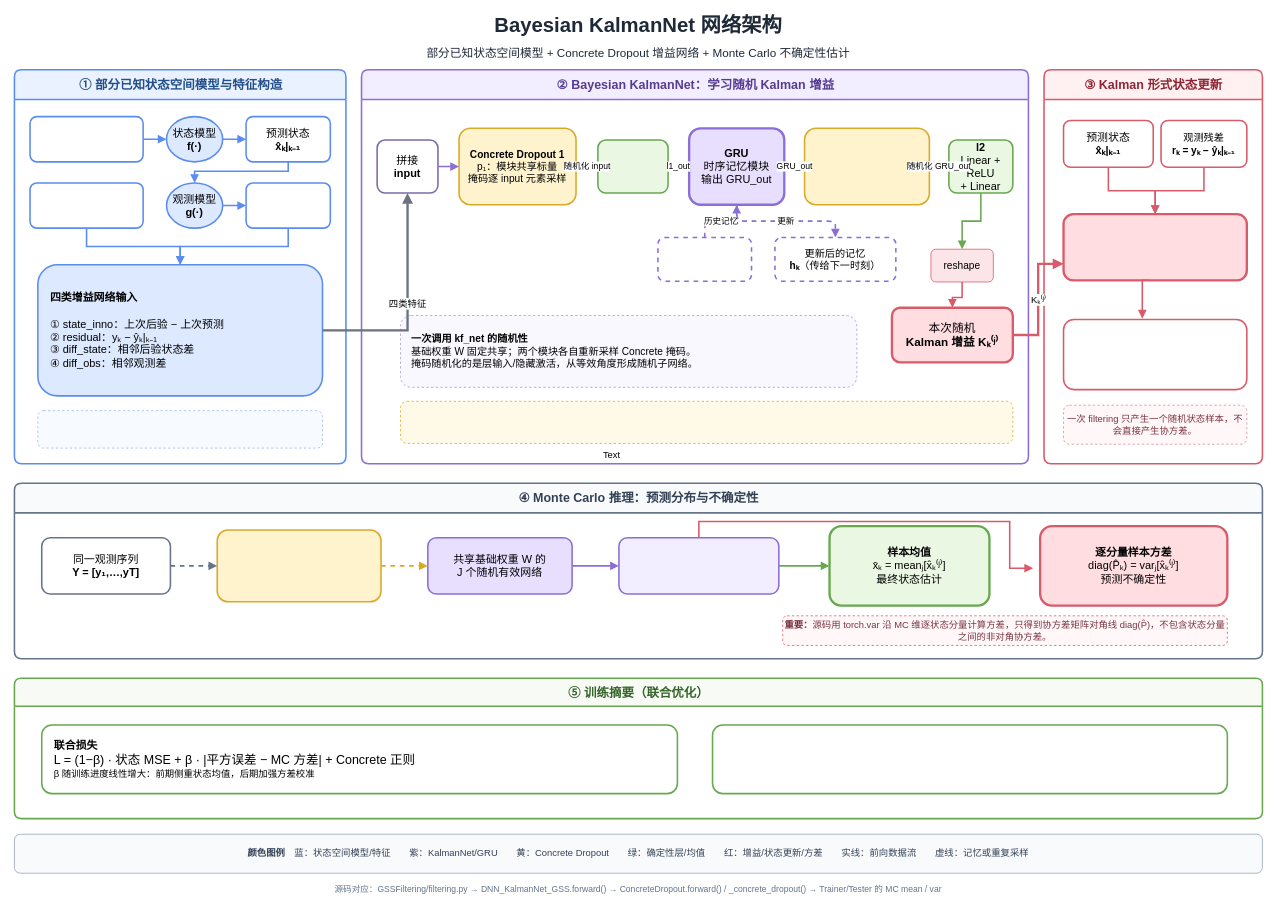
This 1276x913 diagram has some shape labels left out. Each missing label, with the centre of its shape:
Concrete Dropout 2 p₂：模块共享标量 掩码逐 GRU_out 元素采样: the point at 866,166
f、g 允许只是对真实动力学的近似；网络根据数据学习如何融合预测与观测。: the point at 180,429
J 条随机状态轨迹 X̂⁽¹⁾, X̂⁽²⁾, …, X̂⁽ᴶ⁾: the point at 698,565
l1 Linear + ReLU: the point at 632,166
x̂ₖ|ₖ⁽ʲ⁾ = x̂ₖ|ₖ₋₁ + Kₖ⁽ʲ⁾ rₖ: the point at 1155,247
一次完整观测序列递推 得到一条状态轨迹 X̂⁽ʲ⁾ = [x̂₁⁽ʲ⁾,…,x̂T⁽ʲ⁾]: the point at 1154,354
上一时刻后验状态 x̂ₖ₋₁|ₖ₋₁: the point at 86,138
上一时刻记忆 hₖ₋₁: the point at 704,259
反向传播共同更新 • l1、GRU、l2 的基础权重 W 与偏置 • p₁_logit、p₂_logit → sigmoid → p₁、p₂: the point at 969,759
当前观测 yₖ: the point at 86,205
第二个 Dropout 位于 GRU_out 与整个 l2 之间；不是放在最终 K 之后，也不是插在 l2 内每个 Linear 之间。: the point at 706,422
重复 J = 20 次（默认配置） 每个时间步重新采样 M₁⁽ʲ⁾、M₂⁽ʲ⁾: the point at 298,565
预测观测 ŷₖ|ₖ₋₁: the point at 288,205
